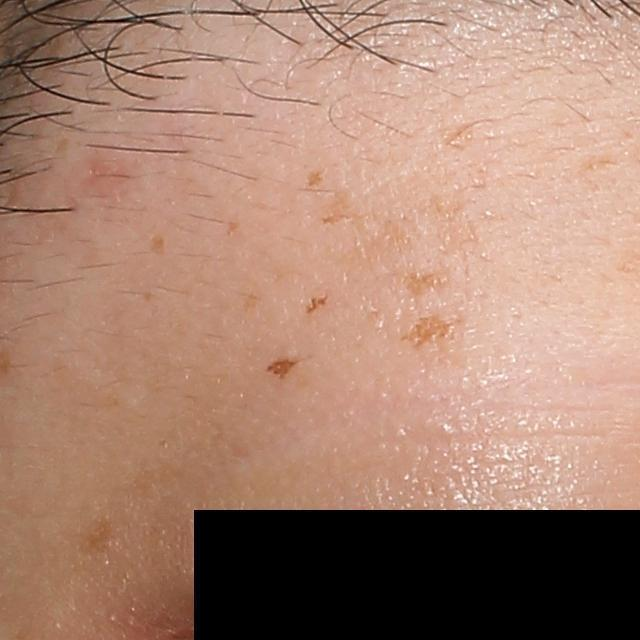melasma: (401, 318, 459, 349), (81, 510, 116, 561), (404, 265, 451, 296), (150, 231, 165, 257)
